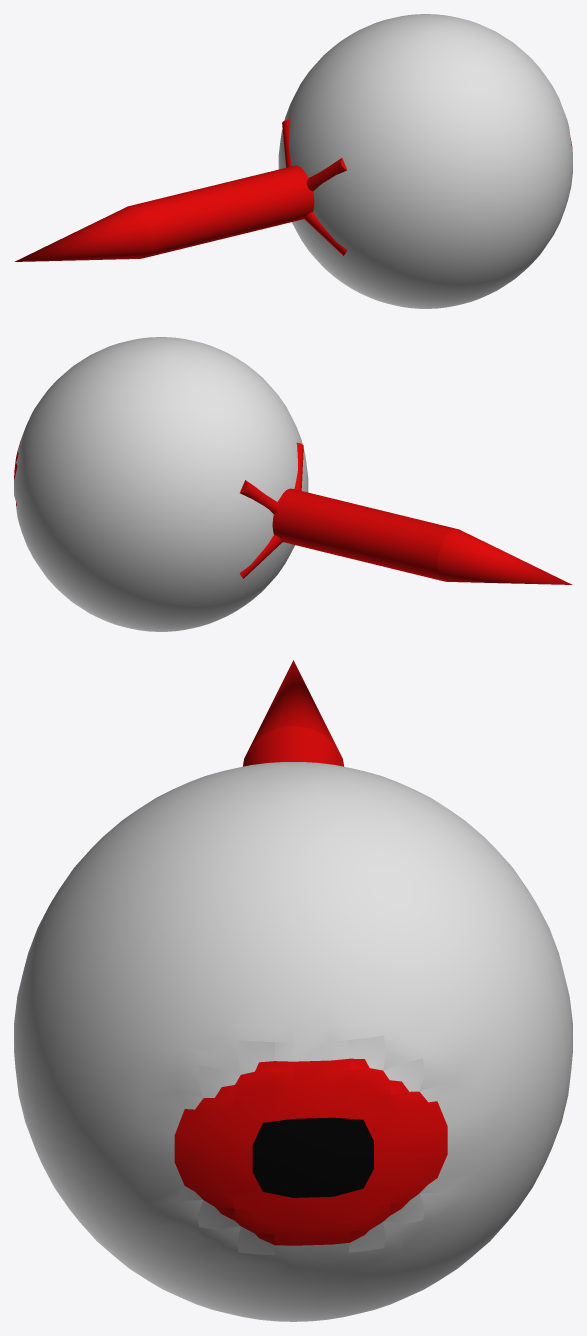
File: eyeSeeNothing.fbx
3 renders of one model, top to bottom at view 1: azimuth 30°, elevation 25°; view 2: azimuth 150°, elevation 25°; view 3: azimuth 270°, elevation 25°, orthographic. The views are drawn at different scales.
Parts seen in each view (by area): view 1: pSphere1, pCylinder1, pCylinder2, pCylinder5; view 2: pSphere1, pCylinder1, pCylinder3, pCylinder4; view 3: pSphere1, pCylinder1.
Part boxes in pixels (x1,y1,x2,y2): pSphere1: [278, 14, 572, 308]; pCylinder1: [14, 165, 314, 261]; pCylinder2: [306, 158, 346, 191]; pCylinder5: [304, 212, 347, 255]; pSphere1: [14, 337, 308, 631]; pCylinder1: [272, 488, 572, 584]; pCylinder3: [240, 480, 278, 513]; pCylinder4: [239, 535, 282, 578]; pSphere1: [14, 762, 572, 1321]; pCylinder1: [243, 660, 343, 766].
Size of the model in its own units: 16.3 by 7.73 by 7.71.
